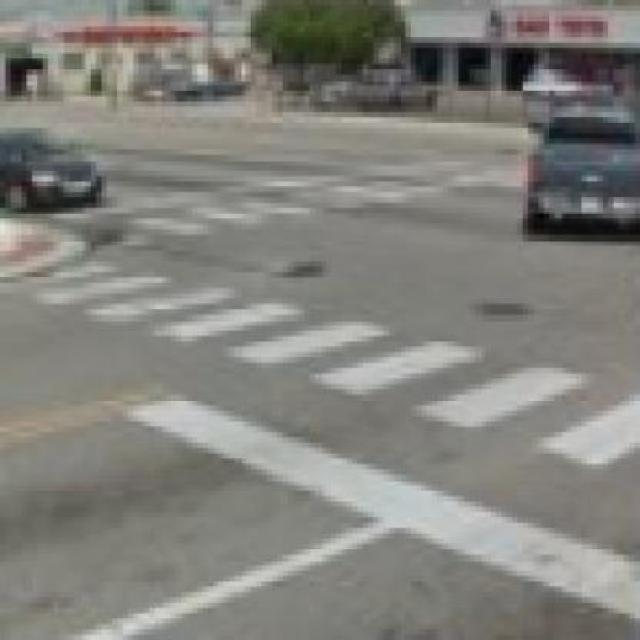crosswalk: (16, 257, 640, 469), (85, 156, 525, 251)
